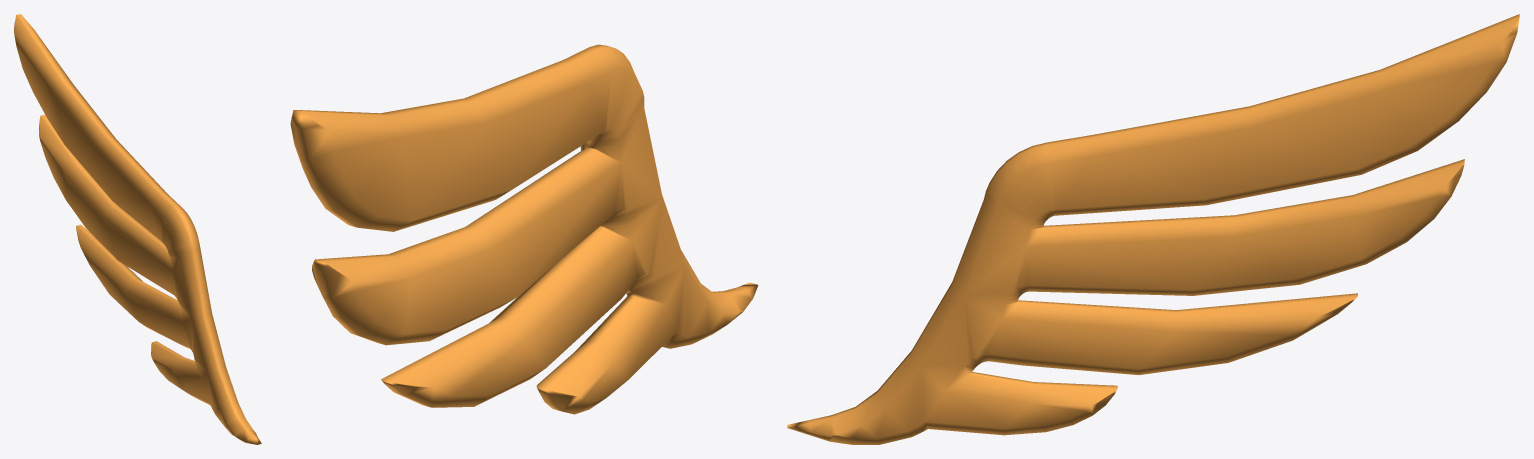
File: wing.fbx
The picture shows the model from 3 angles, left to right: view 1: azimuth 30°, elevation 25°; view 2: azimuth 150°, elevation 25°; view 3: azimuth 270°, elevation 25°; orthographic projection. The views are drawn at different scales.
Parts seen in each view (by area): view 1: Merged_Sneakers3; view 2: Merged_Sneakers3; view 3: Merged_Sneakers3.
Boxes of the visible parts, x1,y1,x2,y2 form: Merged_Sneakers3: (14, 14, 261, 444); Merged_Sneakers3: (290, 44, 758, 414); Merged_Sneakers3: (787, 14, 1519, 444).
Size of the model in its own units: 1.42 by 12.2 by 19.22.
Materials: 1 (1 with a texture image).
